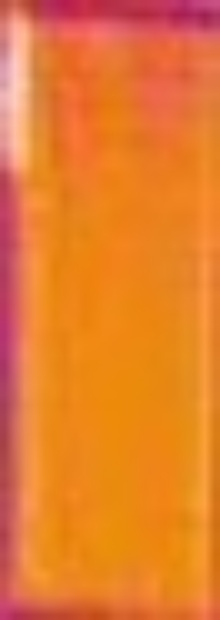Diode: (1, 4, 49, 203)
